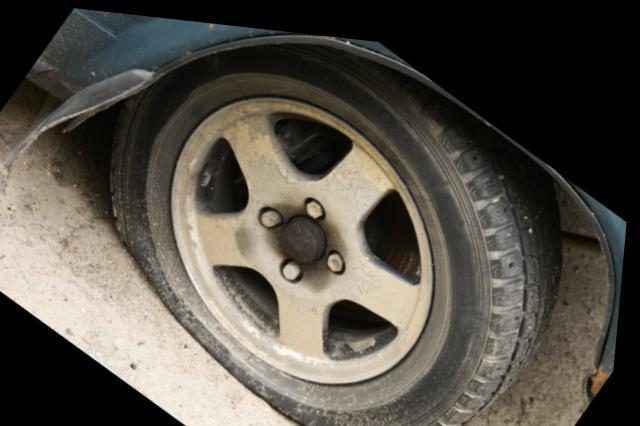tire flat: (110, 34, 568, 426)
